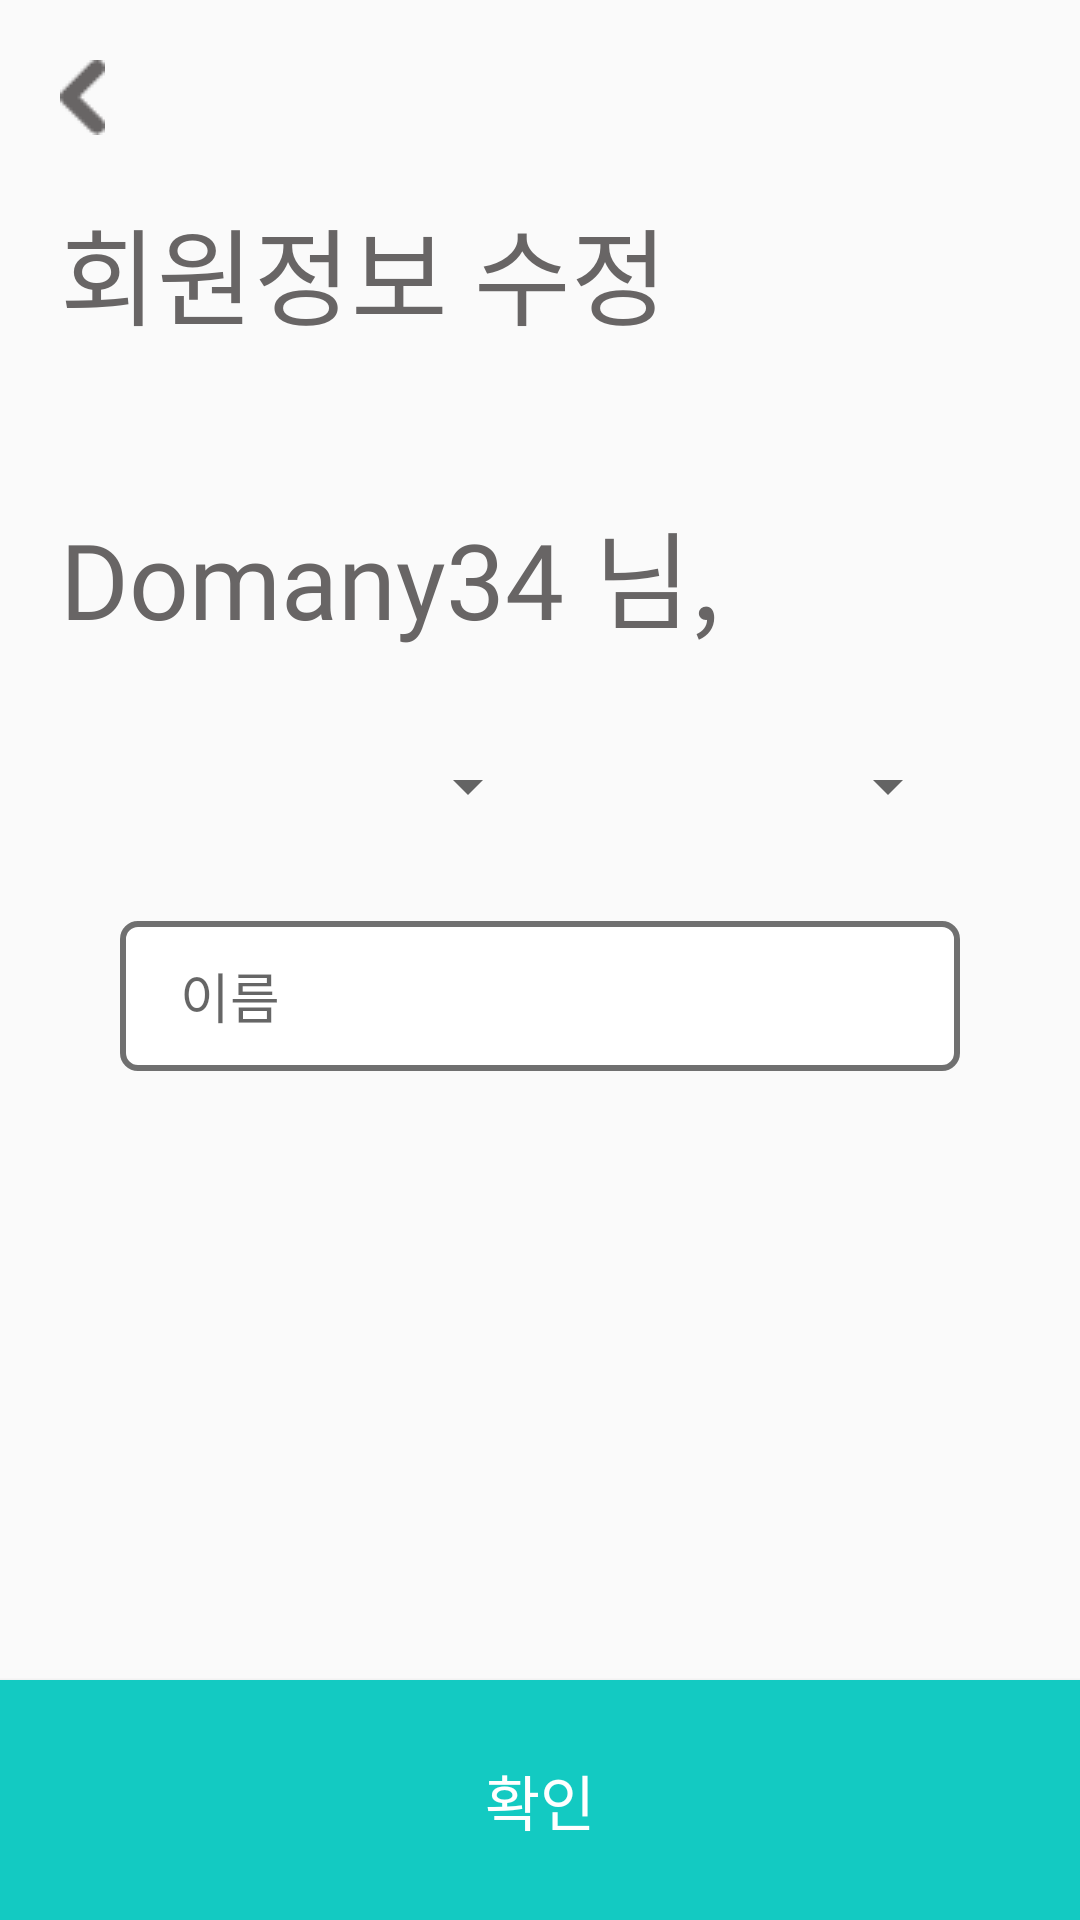

Icon bounding boxes for this 1080×1920 phone screenshot, format (x1, y1, x2, y2):
back: (60, 60, 105, 135)
